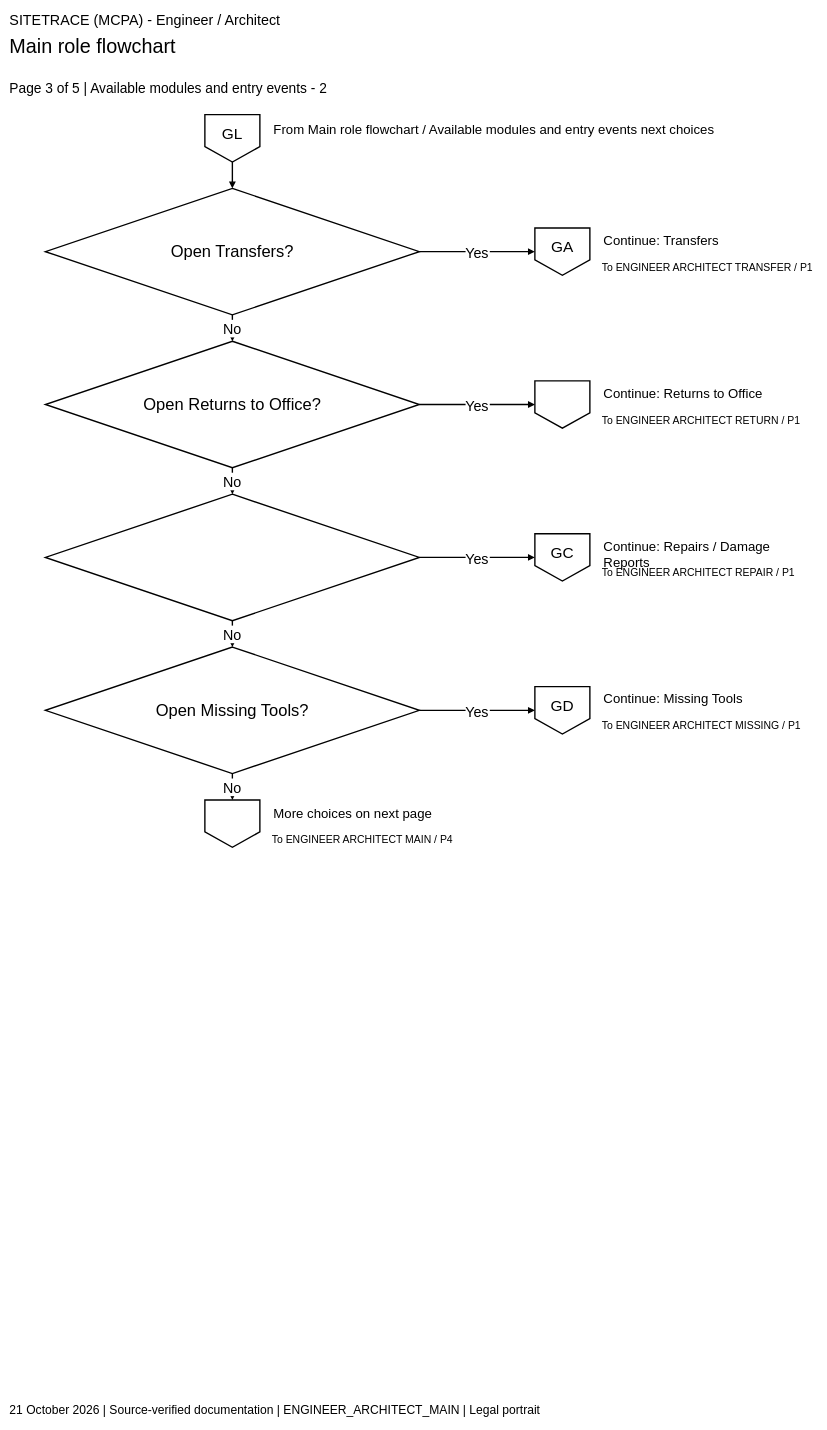
Some shapes in this 827 by 1430 pixel diagram are drawn without their labels. Each missing label, with the centre of its shape:
"GB" belongs at pixel 562 404.
"GM" belongs at pixel 232 823.
"Open Repairs / Damage Reports?" belongs at pixel 232 557.
